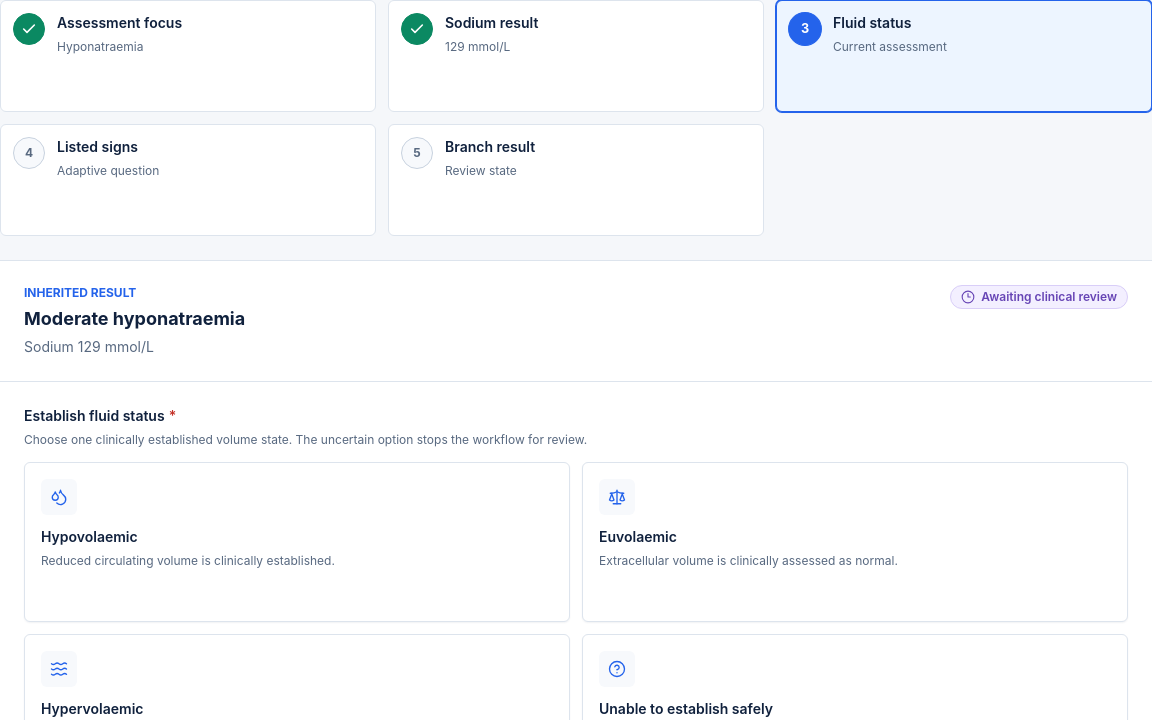
it: hyponatraemia fluid-status review › shows the exact adaptive sign check for hypovolaemia and euvolaemia
The image size is (1152, 720).
Click the radio button labelled "Hypovolaemic".
click(297, 542)  # box [24,462,570,622]
(page scrolled)
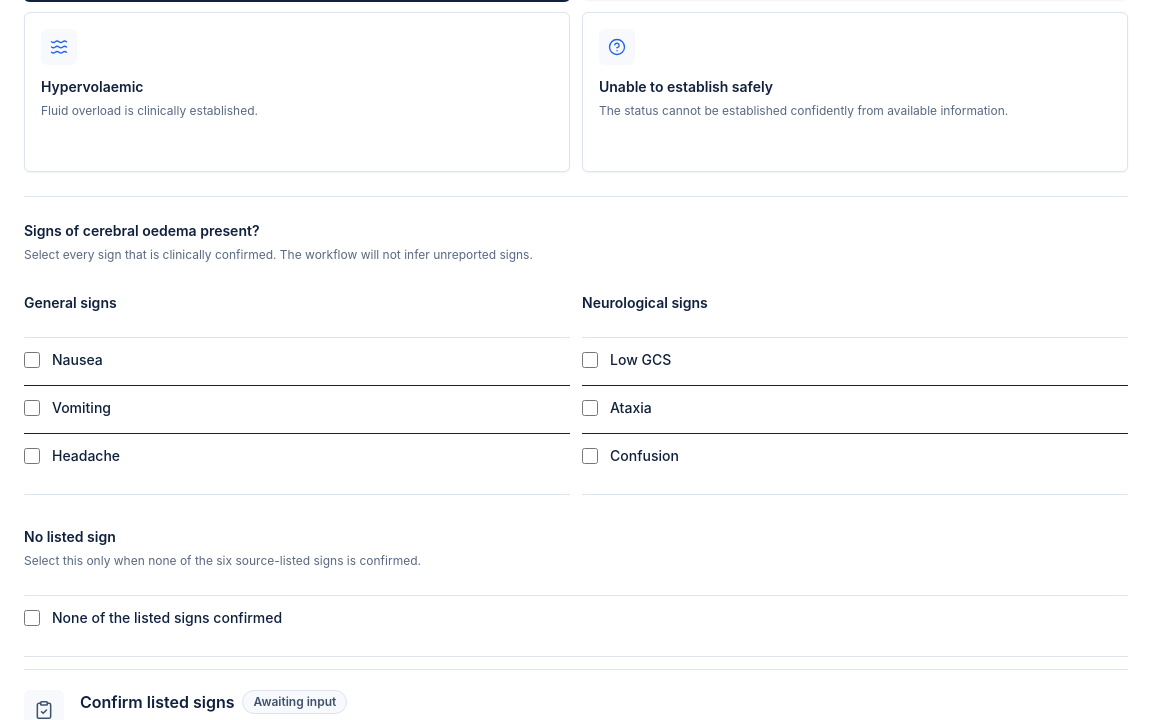
Now the text "Signs of cerebral oedema present?" is shown, box [24,221,260,241]
Now the number of checkboxes is 7
Now the heading "Confirm listed signs" is shown, box [80,690,234,714]
Click the checkbox labelled "Nausea".
click(32, 360)  # box [24,352,40,368]
(page scrolled)
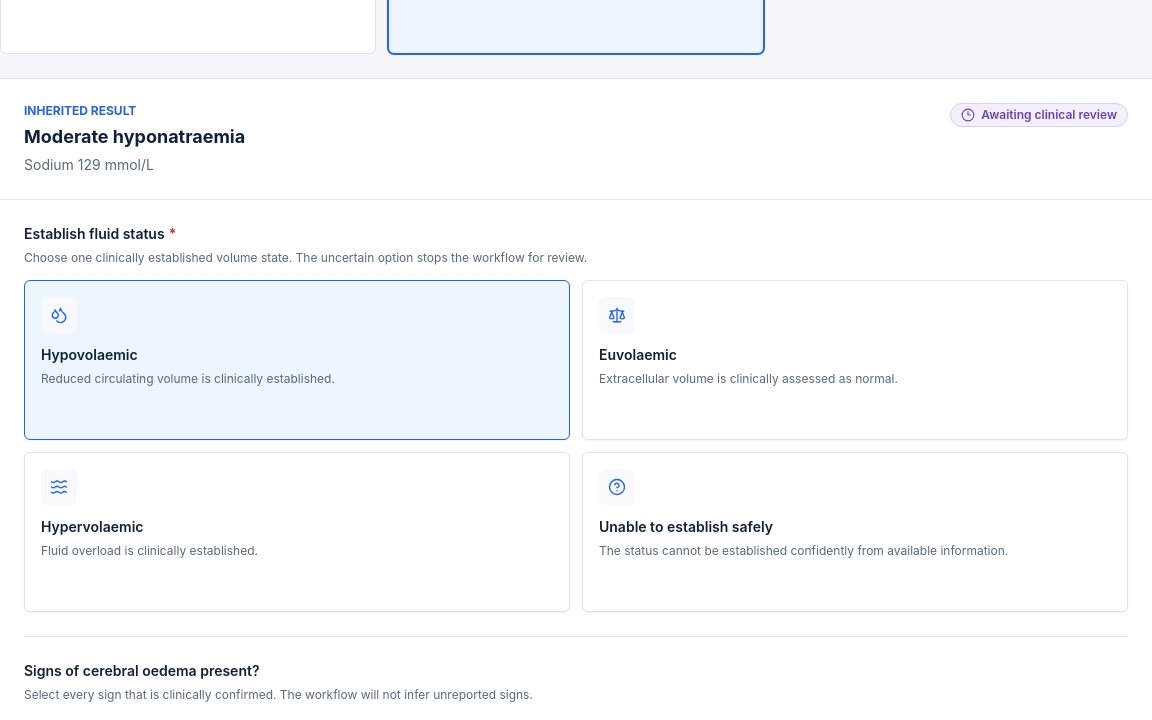
Click the radio button labelled "Euvolaemic".
click(855, 360)  # box [582,280,1128,440]
(page scrolled)
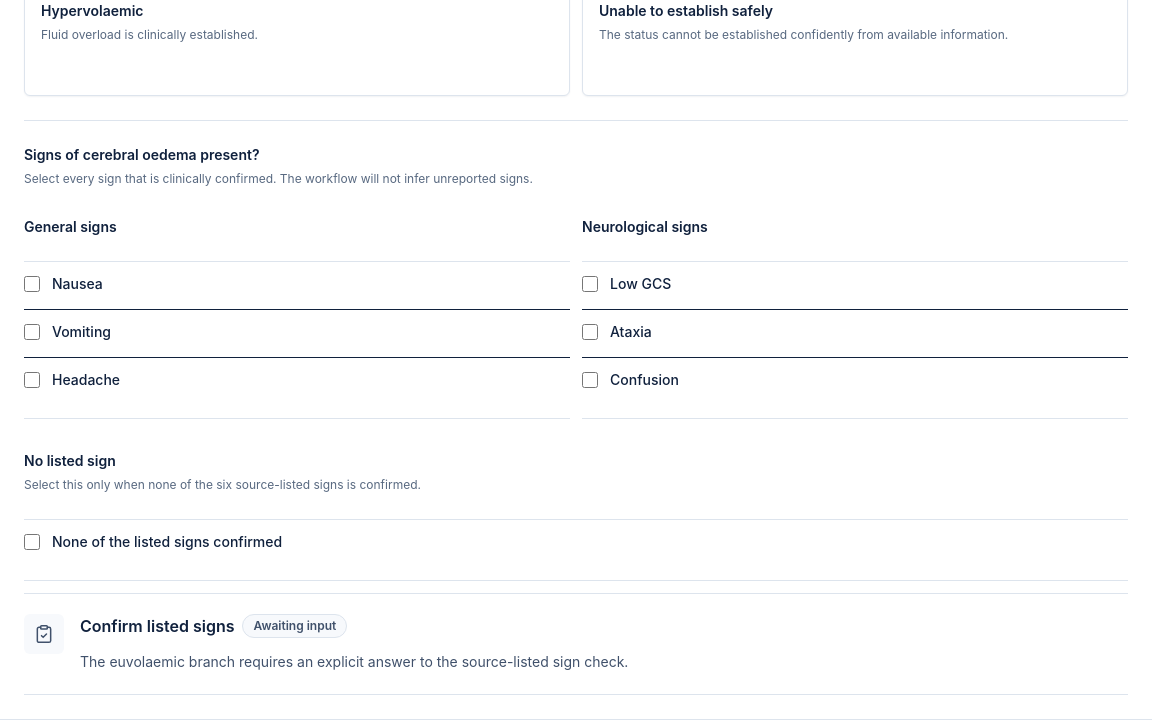
Now the checkbox labelled "Nausea" is not checked, box [24,276,40,292]
Now the heading "Confirm listed signs" is shown, box [80,614,234,638]
